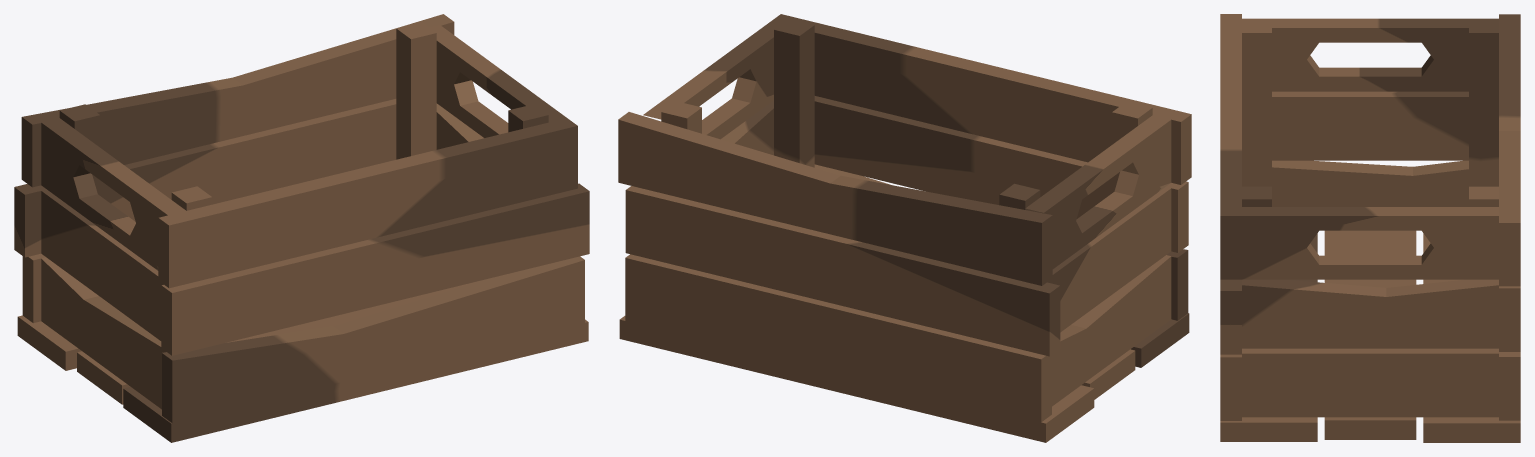
Rendered from SM_Wooden_Box_C.gltf.
The picture shows the model from 3 angles, left to right: view 1: azimuth 30°, elevation 25°; view 2: azimuth 150°, elevation 25°; view 3: azimuth 270°, elevation 25°; orthographic projection.
Parts seen in each view (by area): view 1: SM_Wooden_Box_C; view 2: SM_Wooden_Box_C; view 3: SM_Wooden_Box_C.
Boxes of the visible parts, x1=… form: SM_Wooden_Box_C: x1=14, y1=14, x2=589, y2=442; SM_Wooden_Box_C: x1=618, y1=14, x2=1191, y2=442; SM_Wooden_Box_C: x1=1220, y1=14, x2=1520, y2=442.
Size of the model in its own units: 0.9467 by 0.4752 by 0.5659.
Materials: 1 (1 with a texture image).
